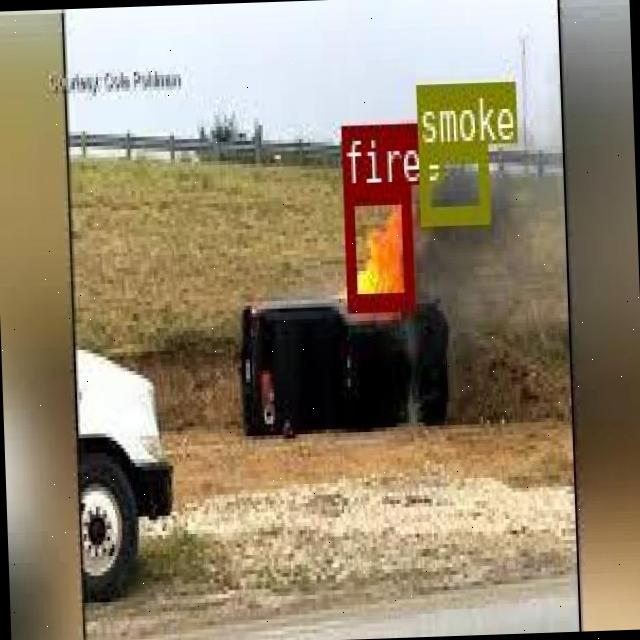fire: (342, 182, 412, 307)
smoke: (342, 182, 412, 308), (418, 140, 488, 220)
